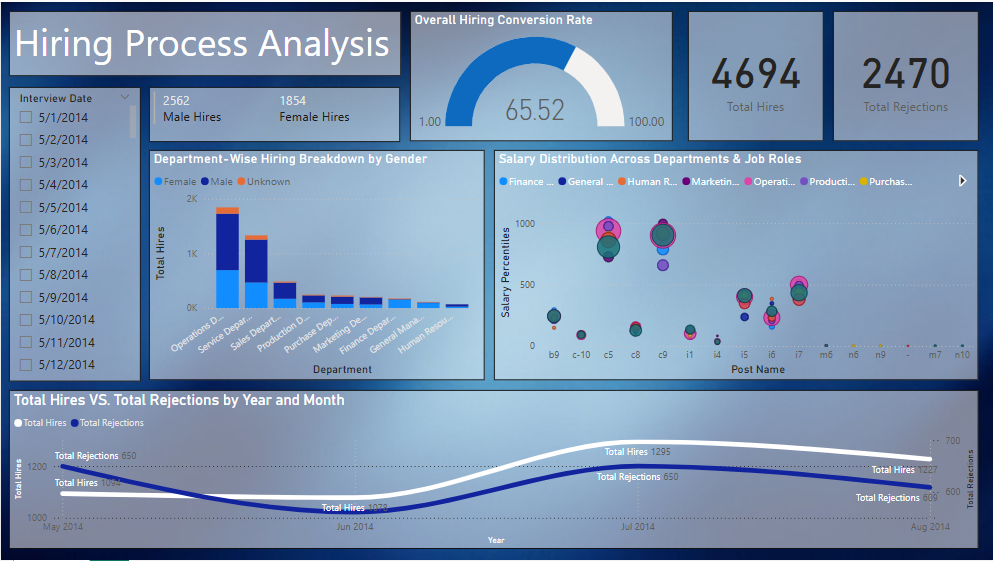

What the dashboard file says about the page in this screenshot:
{"tool":"powerbi","page":{"name":"Page 1","canvas":[1280,720],"ordinal":0},"visuals":[{"type":"textbox","box":[10.1,11.8,505.6,84],"z":0},{"type":"card","fields":{"Values":["Measure.Total Rejections"]},"box":[1073.4,11.8,188.1,168],"z":1000},{"type":"gauge","title":"Overall Hiring Conversion Rate","fields":{"Y":["Measure.Hiring Conversion Rate"]},"box":[527.5,11.8,339.3,168],"z":2000},{"type":"lineChart","title":"Total Hires VS. Total Rejections by Year and Month","fields":{"Y":["Measure.Total Hires"],"Category":["Hire.Interview Date.Variation.Date Hierarchy.Year","Hire.Interview Date.Variation.Date Hierarchy.Month"],"Y2":["Measure.Total Rejections"]},"box":[10.1,500.6,1251.4,204.9],"z":3000},{"type":"slicer","fields":{"Values":["Hire.Interview Date"]},"box":[10.1,109.2,169.7,379.6],"z":4000},{"type":"card","fields":{"Values":["Measure.Total Hires"]},"box":[886.9,11.8,174.7,168],"z":5000},{"type":"scatterChart","title":"Salary Distribution Across Departments & Job Roles","fields":{"X":["Hire.Post Name"],"Y":["Measure.Salary Percentiles"],"Size":["Sum(Hire.Offered Salary)"],"Series":["Hire.Department"]},"box":[636.6,191.5,624.9,297.3],"z":6000},{"type":"columnChart","title":"Department-Wise Hiring Breakdown by Gender","fields":{"Category":["Hire.Department"],"Y":["Measure.Total Hires"],"Series":["Hire.event_name"]},"box":[191.5,191.5,433.4,297.3],"z":7000},{"type":"multiRowCard","fields":{"Values":["Measure.Male Hires","Measure.Female Hires"]},"box":[191.5,109.2,324.2,70.6],"z":8000}]}

Visuals, with their boxes in screenshot pixels (x1, y1, x2, y2), scaled from the page's 1280x720 canvas onto the 993x561 screenshot:
textbox: bbox=[8, 9, 400, 75]
card - Measure.Total Rejections: bbox=[833, 9, 979, 140]
"Overall Hiring Conversion Rate" gauge: bbox=[409, 9, 672, 140]
"Total Hires VS. Total Rejections by Year and Month" lineChart: bbox=[8, 390, 979, 550]
slicer - Hire.Interview Date: bbox=[8, 85, 139, 381]
card - Measure.Total Hires: bbox=[688, 9, 824, 140]
"Salary Distribution Across Departments & Job Roles" scatterChart: bbox=[494, 149, 979, 381]
"Department-Wise Hiring Breakdown by Gender" columnChart: bbox=[149, 149, 485, 381]
multiRowCard - Measure.Male Hires x Measure.Female Hires: bbox=[149, 85, 400, 140]
